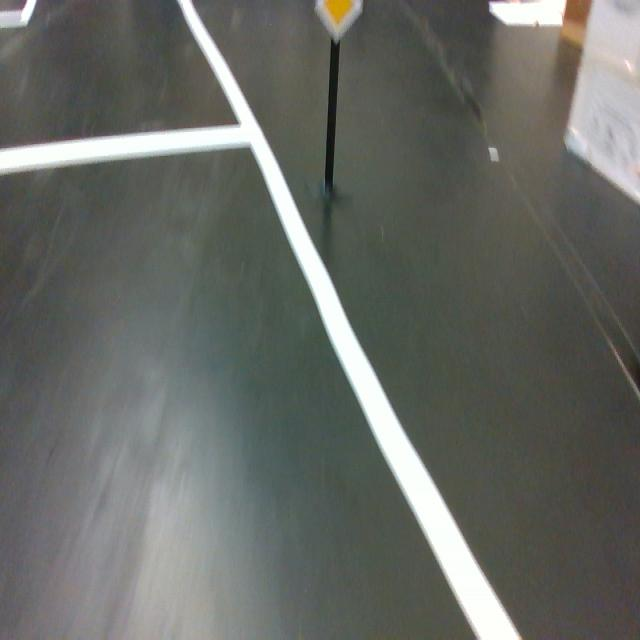priority-sign: (313, 0, 364, 47)
